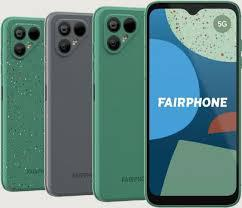Smartphone: (148, 1, 240, 207), (94, 8, 144, 201), (48, 13, 94, 194), (3, 17, 46, 195)
